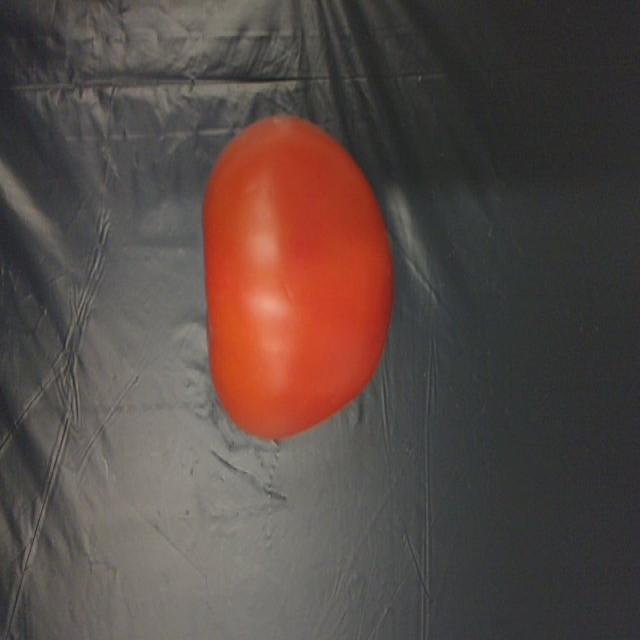kirmizi: (199, 120, 394, 444)
